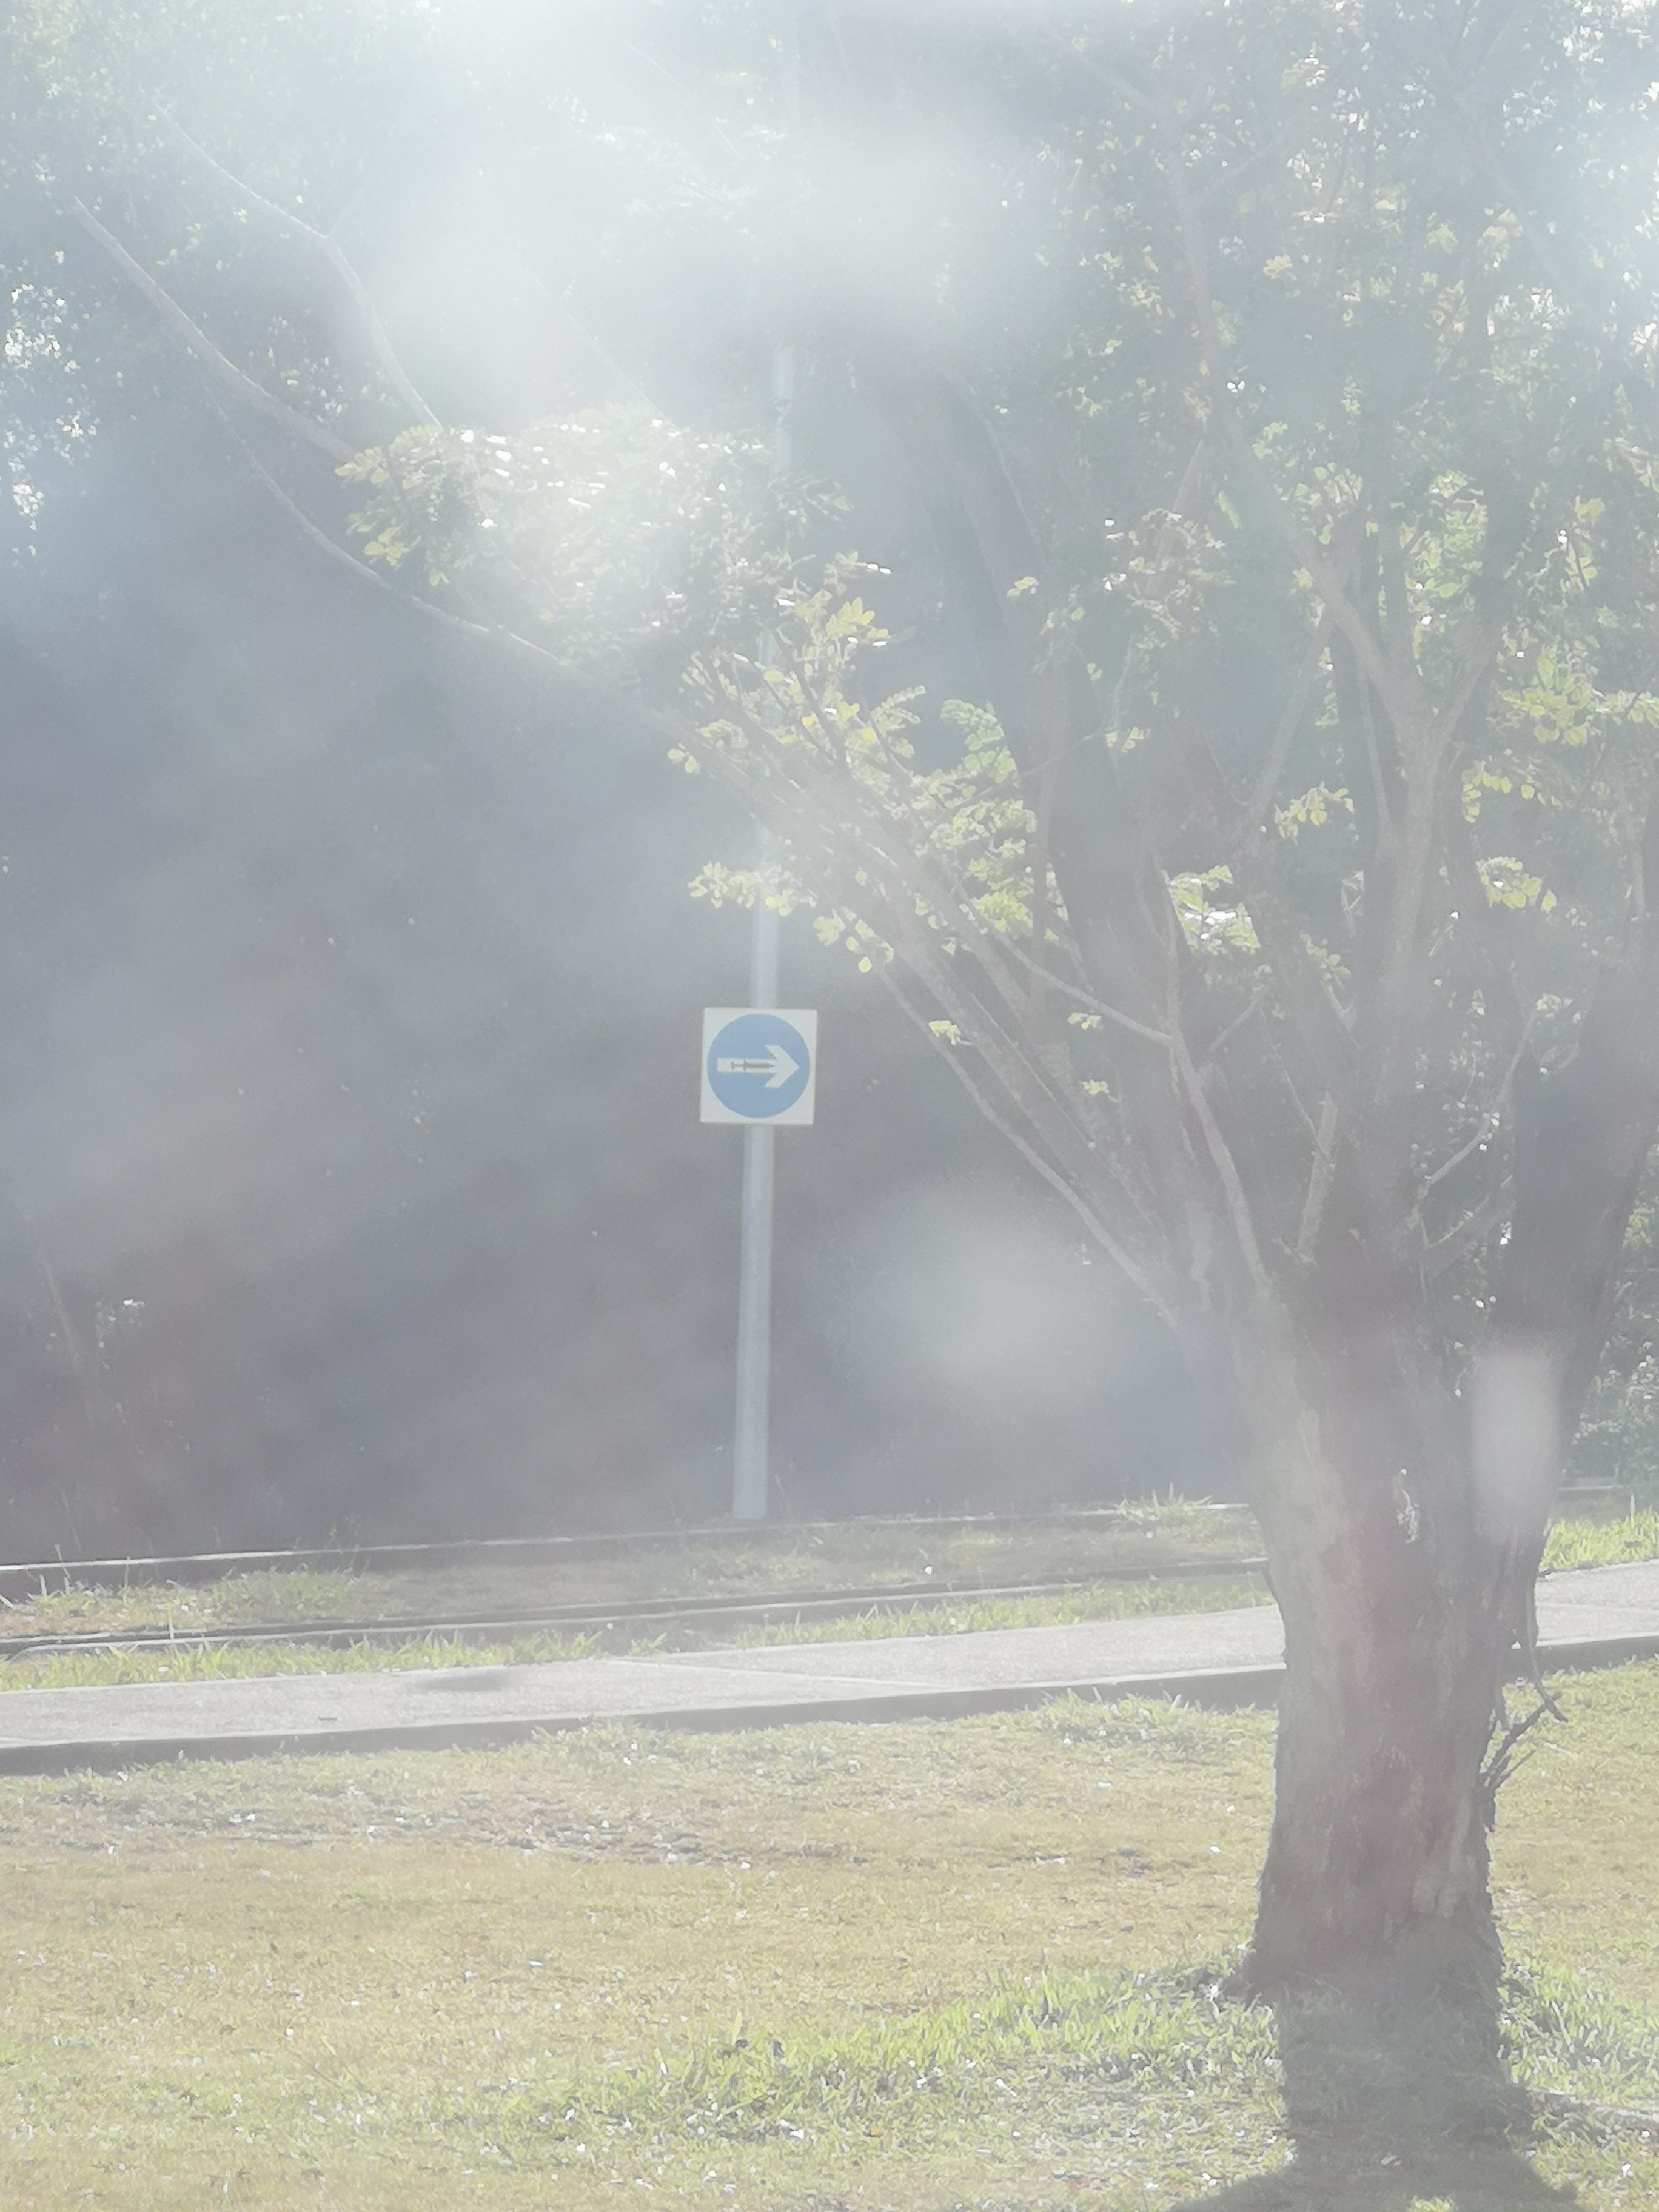turn right: (690, 995, 819, 1123)
